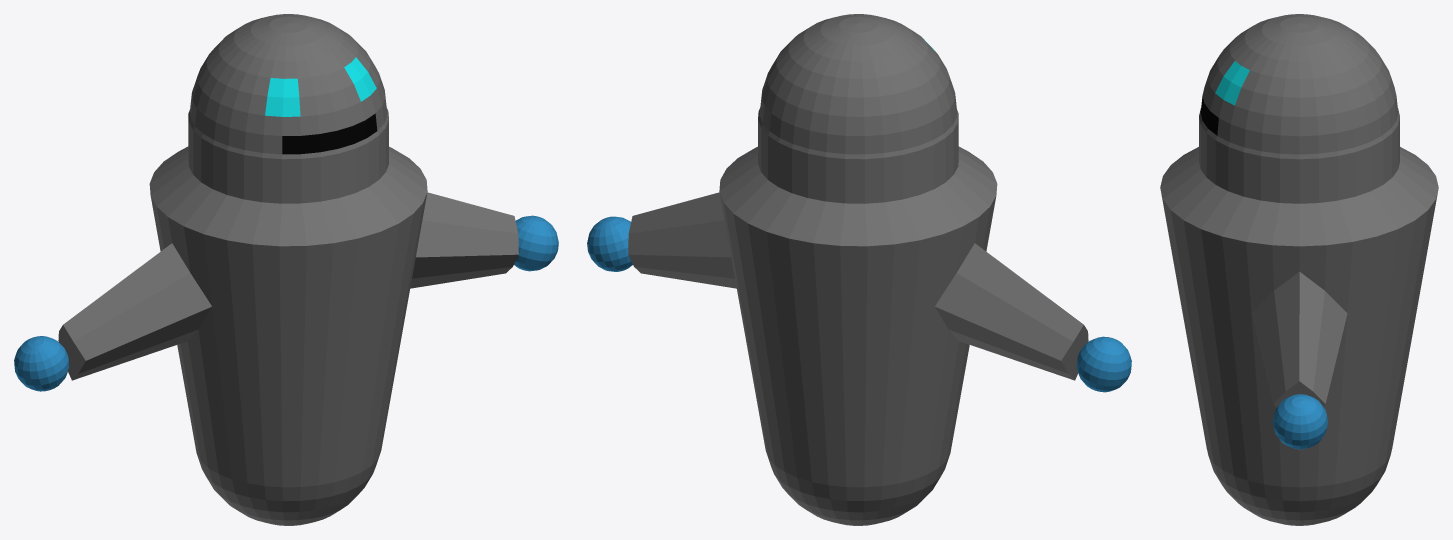
Rendered from Gegner.fbx.
3 views of the same model, side by side, from view 1: azimuth 30°, elevation 25°; view 2: azimuth 150°, elevation 25°; view 3: azimuth 270°, elevation 25° (orthographic).
Visible parts, largest first — view 1: Körper; view 2: Körper; view 3: Körper.
Part boxes in pixels (bbox=[...]): Körper: bbox=[14, 14, 558, 525]; Körper: bbox=[587, 14, 1131, 525]; Körper: bbox=[1160, 14, 1438, 525].
Size of the model in its own units: 6.56 by 5.76 by 2.94.
